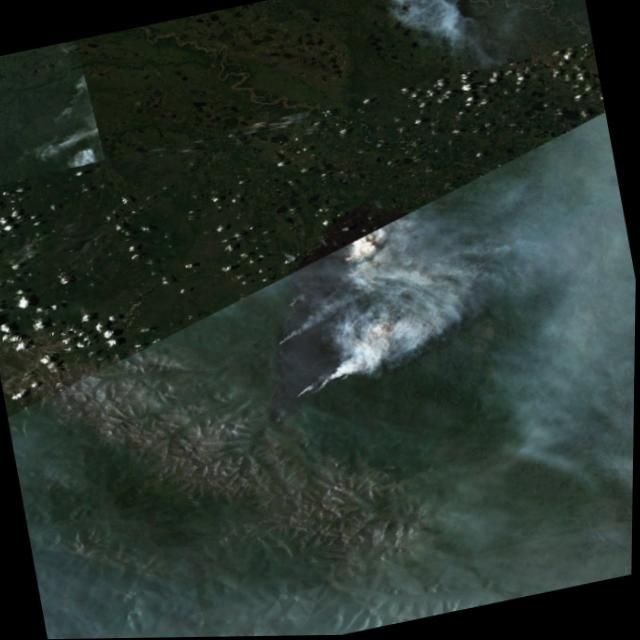fire: (247, 210, 411, 408)
